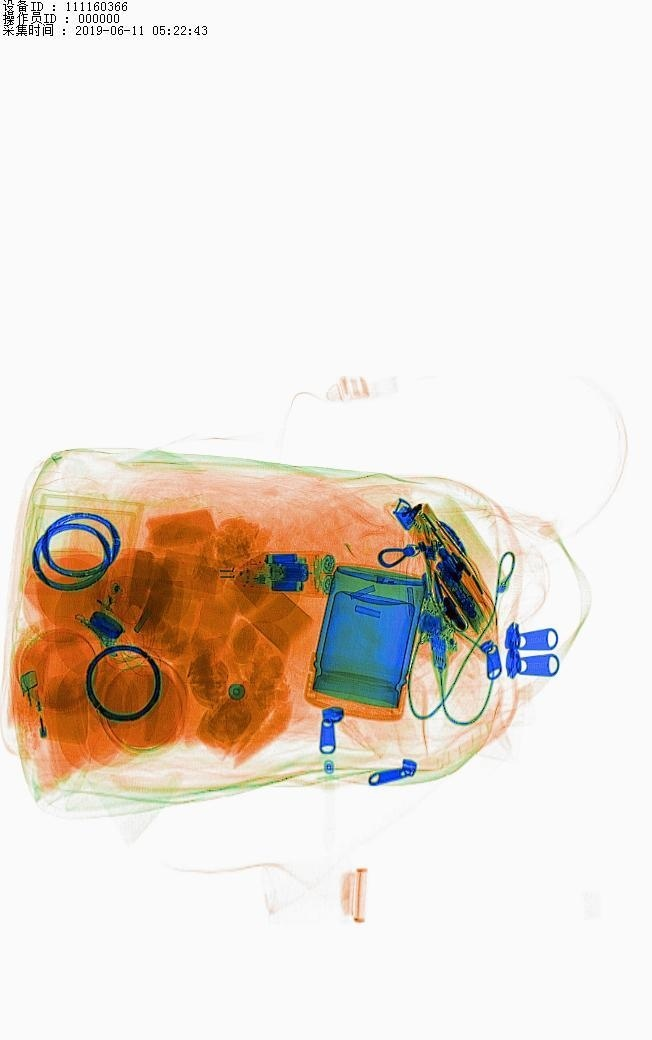NonmetallicFire: (0, 651, 79, 791)
